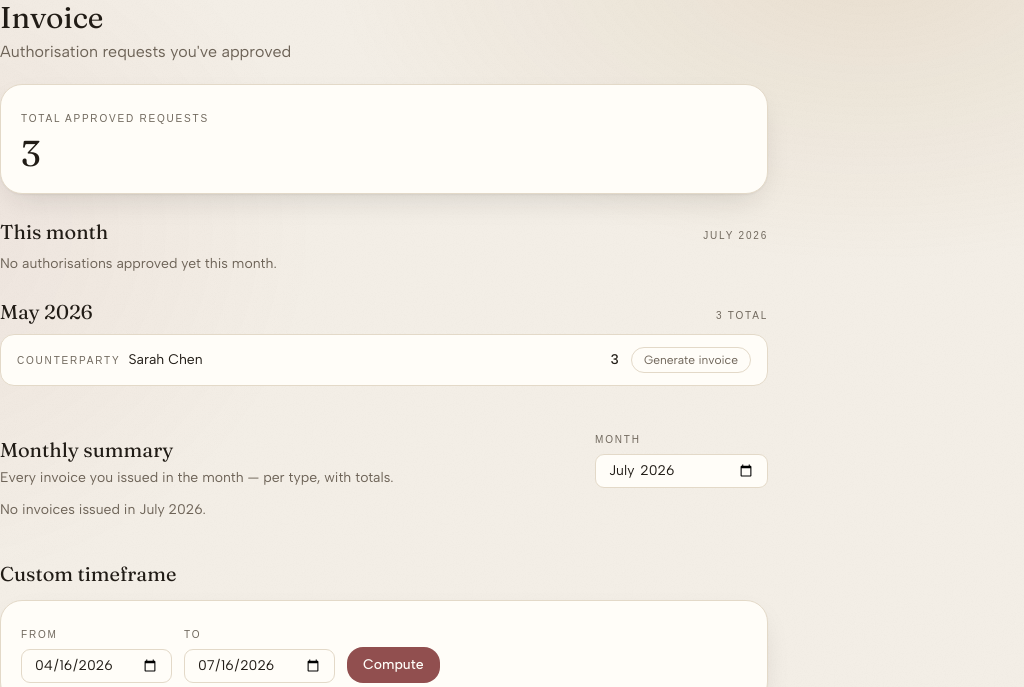
Test: Billing — selective invoicing (16/07 enhancement 2) › cannot generate with nothing selected
Click the button "Generate invoice": (691, 360) [631,347,751,373]
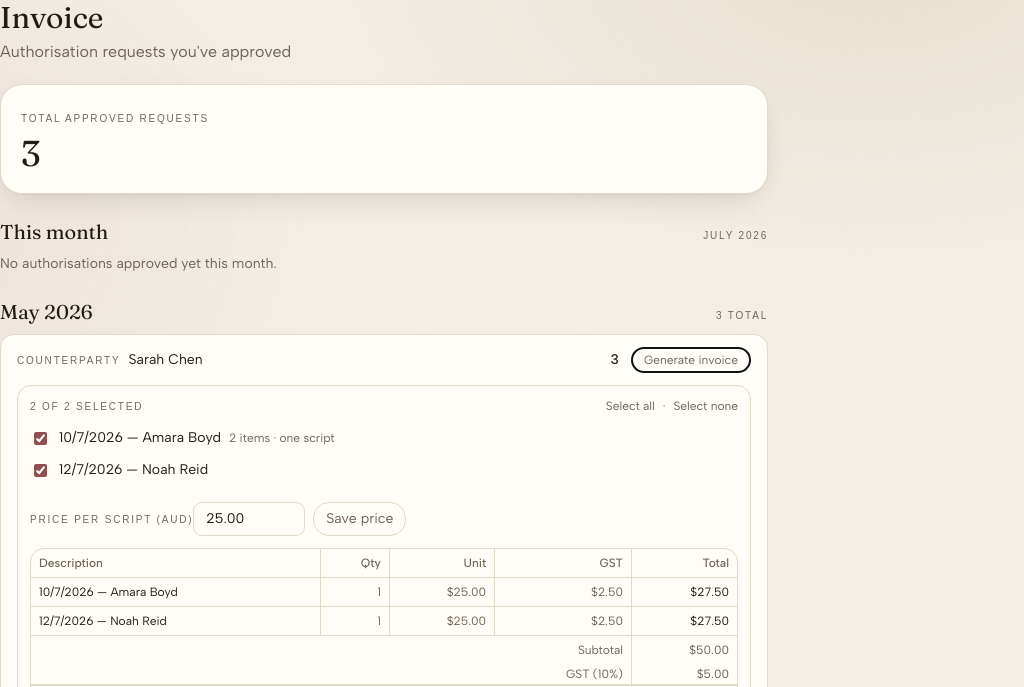
Click the button "Select none": (706, 406) [674,398,738,414]
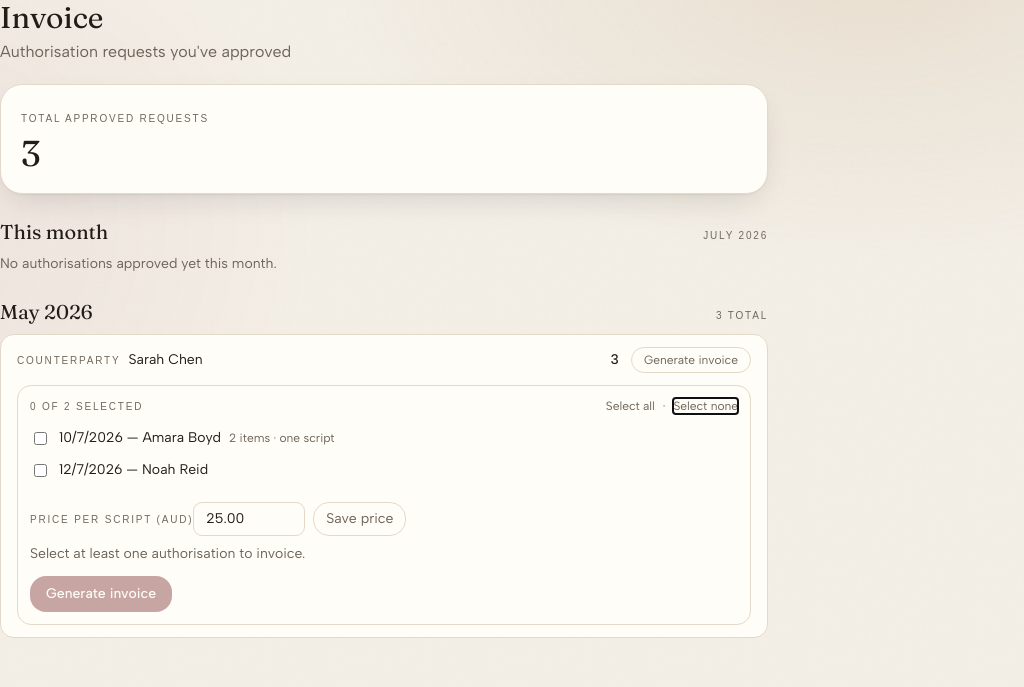
Expected: the button "Generate invoice" below "Price per script (AUD)" is disabled, [30,576,172,612]
